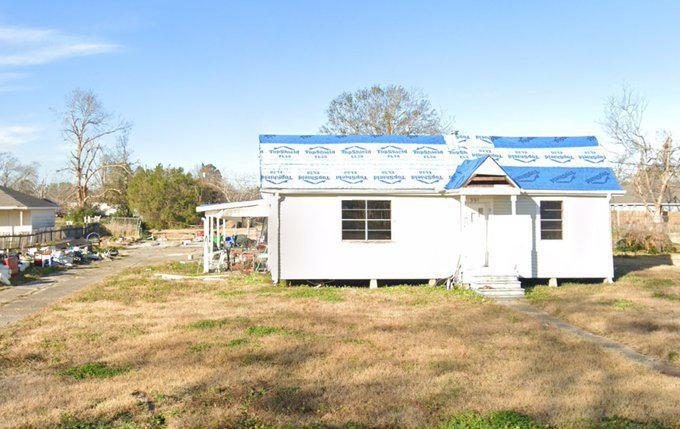minor: (162, 122, 623, 318)
